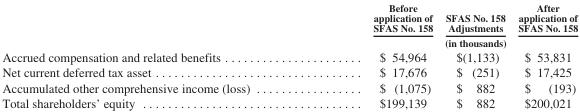table: (1, 1, 577, 109)
table column: (1, 1, 310, 109), (310, 1, 438, 109), (438, 1, 511, 109), (511, 1, 577, 109)
table column header: (1, 1, 577, 49)
table row: (1, 1, 577, 34), (1, 34, 577, 49), (1, 49, 577, 64), (1, 64, 577, 79), (1, 79, 577, 94), (1, 94, 577, 109)
table spanning cell: (310, 34, 577, 49)
